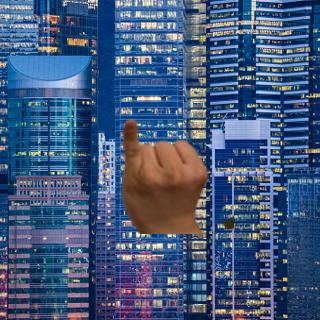FINE: (116, 119, 212, 223)
